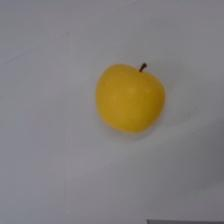yellow: (96, 61, 166, 133)
